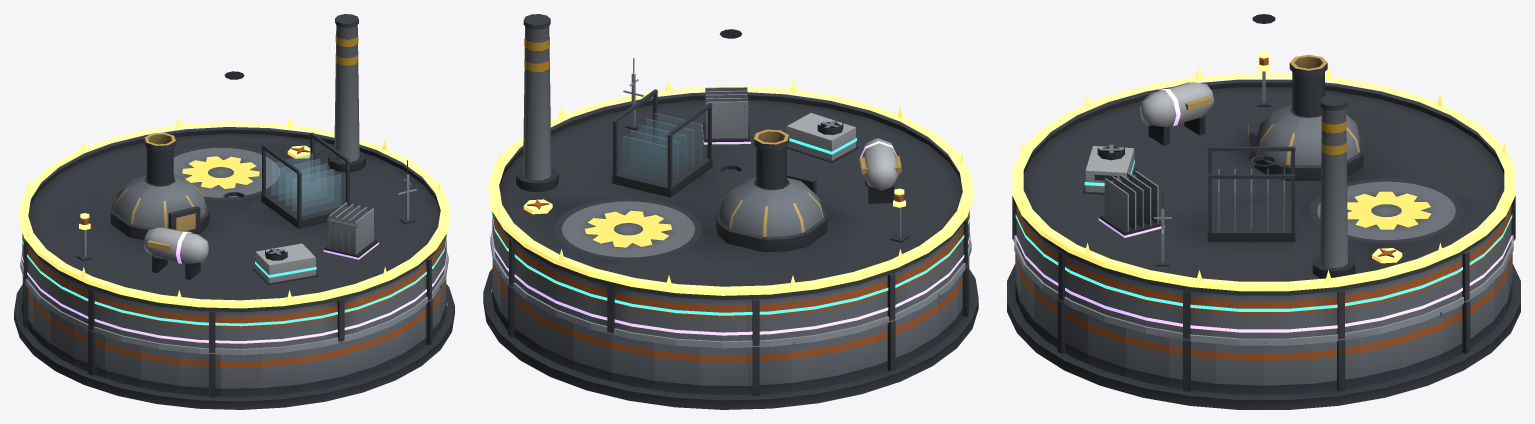
The model's file is glassworks_s_far.glb.
The picture shows the model from 3 angles, left to right: view 1: azimuth 30°, elevation 25°; view 2: azimuth 150°, elevation 25°; view 3: azimuth 270°, elevation 25°; orthographic projection. The views are drawn at different scales.
Parts seen in each view (by area): view 1: Roof, Base, L5, L4, L3, L2; view 2: Roof, Base, L5, L4, L3, L2; view 3: Roof, Base, L5, L4, L2, L3.
Boxes of the visible parts, x1,y1,x2,y2 form: Roof: [22, 14, 446, 352]; Base: [14, 275, 454, 409]; L5: [18, 116, 450, 308]; L4: [21, 202, 447, 343]; L3: [21, 191, 447, 326]; L2: [20, 160, 448, 354]; Roof: [492, 14, 969, 345]; Base: [483, 258, 978, 409]; L5: [488, 80, 973, 295]; L4: [491, 87, 970, 335]; L3: [491, 113, 970, 315]; L2: [490, 58, 971, 348]; Roof: [1012, 14, 1515, 339]; Base: [1007, 239, 1520, 409]; L5: [1012, 51, 1515, 291]; L4: [1015, 82, 1512, 332]; L2: [1014, 192, 1513, 345]; L3: [1015, 144, 1512, 311].
Bounding box in the file's own units: 11.74 × 7.12 × 11.74.
